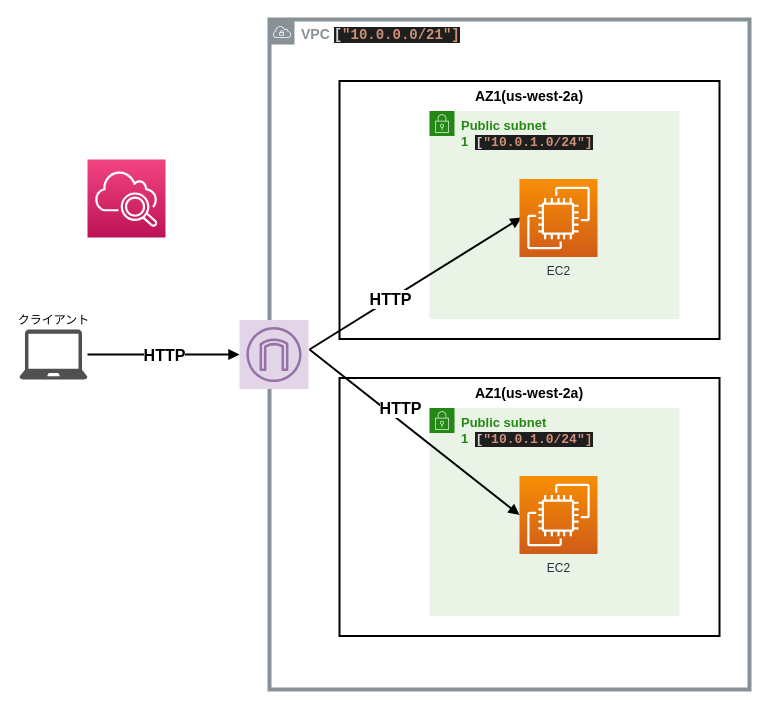
This 768x708 diagram has some shape labels left out. Each missing label, with the box of its shape:
CloudWatch: (85, 157, 167, 239)
Internet gateway: (238, 319, 308, 389)
